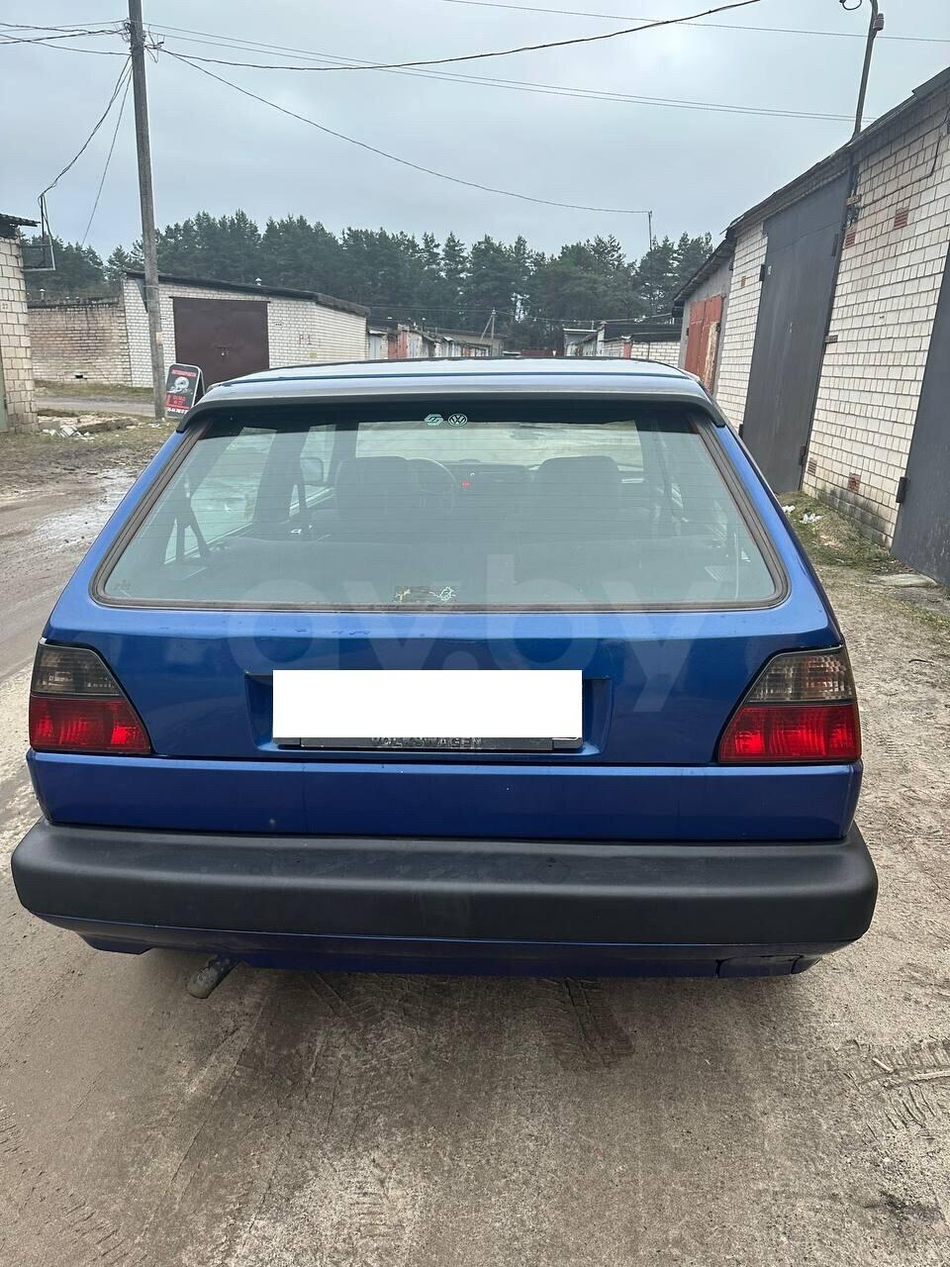Golf_1983-1992: (12, 346, 884, 983)
